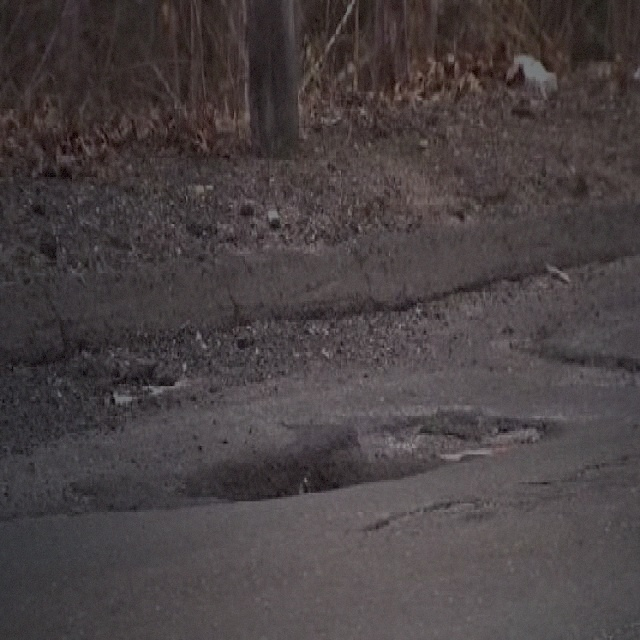pothole: (185, 401, 558, 508)
